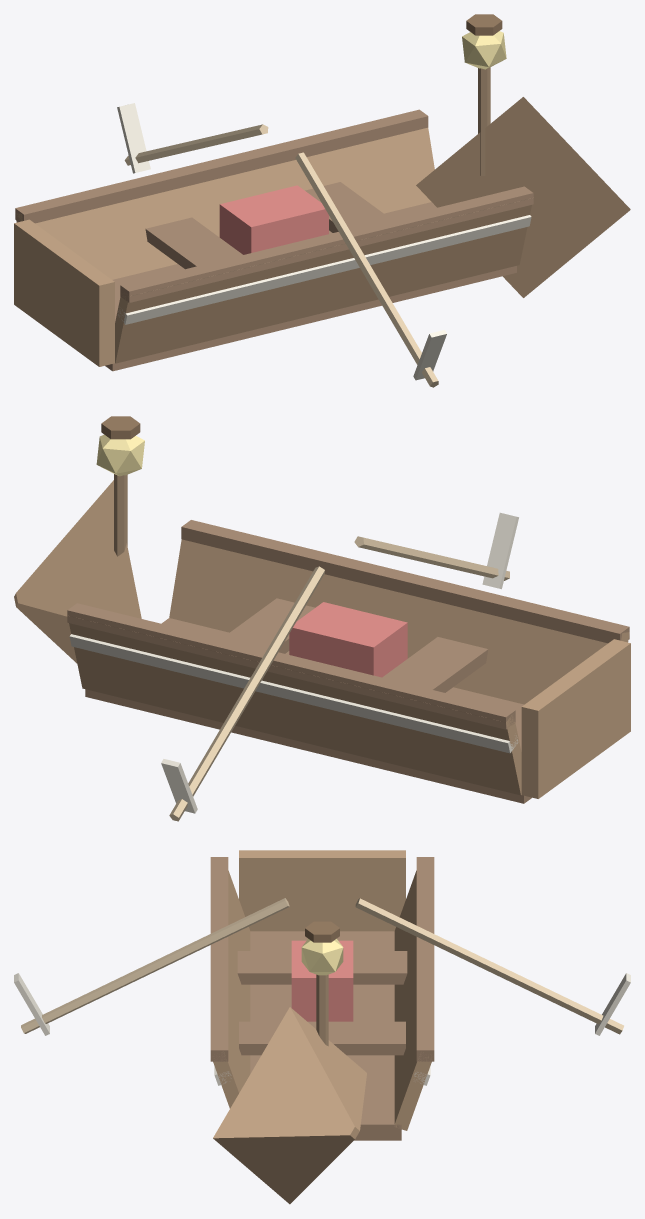
The model's file is Sea_Rowboat.fbx.
The picture shows the model from 3 angles, top to bottom: view 1: azimuth 30°, elevation 25°; view 2: azimuth 150°, elevation 25°; view 3: azimuth 270°, elevation 25°; orthographic projection. The views are drawn at different scales.
Visible parts, largest first — view 1: Side, Side.001, Bow, Stern, Rail.001, Rail, Bucket, Stripe, Bottom, Bench1, Oar, Bench2 (+6 smaller); view 2: Side.001, Side, Stern, Rail, Bow, Rail.001, Bucket, Stripe.001, Bottom, Bench1, Oar.001, Bench2 (+6 smaller); view 3: Bow, Stern, Bottom, Side.001, Side, Bench2, Rail, Rail.001, Bench1, Bucket, Oar.001, Oar (+5 smaller).
Part boxes in pixels (x1,y1,x2,y2): Side: (115, 198, 532, 363); Side.001: (15, 127, 434, 279); Bow: (416, 97, 630, 297); Stern: (14, 219, 114, 366); Rail.001: (15, 109, 428, 223); Rail: (120, 186, 533, 302); Bucket: (219, 185, 328, 254); Stripe: (118, 215, 531, 324); Bottom: (105, 202, 516, 371); Bench1: (145, 217, 242, 269); Oar: (295, 152, 438, 387); Bench2: (305, 182, 390, 232); Side.001: (68, 615, 521, 795); Side: (169, 539, 629, 704); Stern: (521, 639, 630, 798); Rail: (181, 520, 629, 643); Bow: (14, 480, 141, 663); Rail.001: (67, 603, 515, 729); Bucket: (289, 602, 407, 677); Stripe.001: (69, 634, 518, 753); Bottom: (85, 618, 531, 803); Bench1: (382, 637, 488, 692); Oar.001: (169, 566, 324, 821); Bench2: (222, 598, 314, 653); Bow: (213, 1007, 366, 1204); Stern: (239, 850, 405, 931); Bottom: (250, 931, 401, 1140); Side.001: (394, 870, 431, 1130); Side: (213, 870, 250, 1108); Bench2: (239, 1021, 405, 1055); Rail: (210, 857, 228, 1061); Rail.001: (416, 857, 434, 1061); Bench1: (237, 951, 407, 984); Bucket: (291, 940, 353, 1021); Oar.001: (355, 898, 623, 1034); Oar: (21, 898, 289, 1033).
Bounding box in the file's own units: 3.33 × 1.67 × 3.5.
